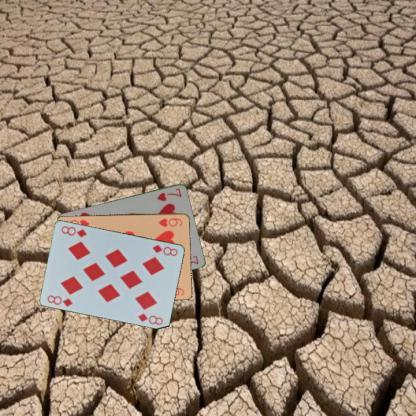6h: (156, 216, 184, 228)
7h: (154, 186, 183, 202)
8d: (45, 292, 74, 308), (150, 242, 178, 257)
